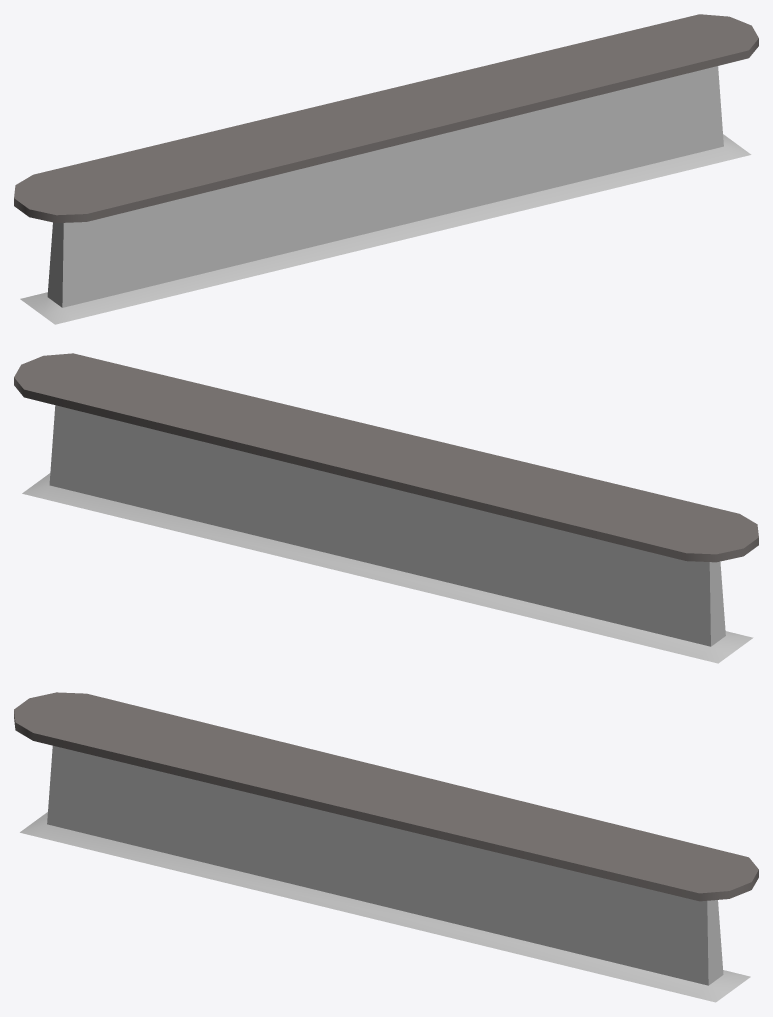
Rendered from SM_Chairs_05.fbx.
The picture shows the model from 3 angles, top to bottom: view 1: azimuth 30°, elevation 25°; view 2: azimuth 150°, elevation 25°; view 3: azimuth 330°, elevation 25°; orthographic projection.
Parts seen in each view (by area): view 1: SM_Chairs_05; view 2: SM_Chairs_05; view 3: SM_Chairs_05.
Part boxes in pixels (bbox=[...]): SM_Chairs_05: bbox=[14, 14, 758, 324]; SM_Chairs_05: bbox=[14, 353, 758, 663]; SM_Chairs_05: bbox=[14, 692, 758, 1002].
Bounding box in the file's own units: 329 × 48.13 × 41.91.
1 material, 1 textured.
